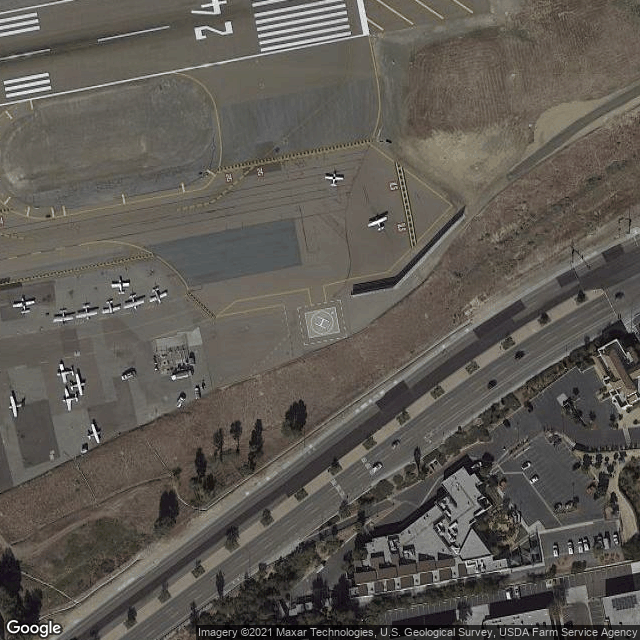Helipad: (293, 298, 352, 348)
